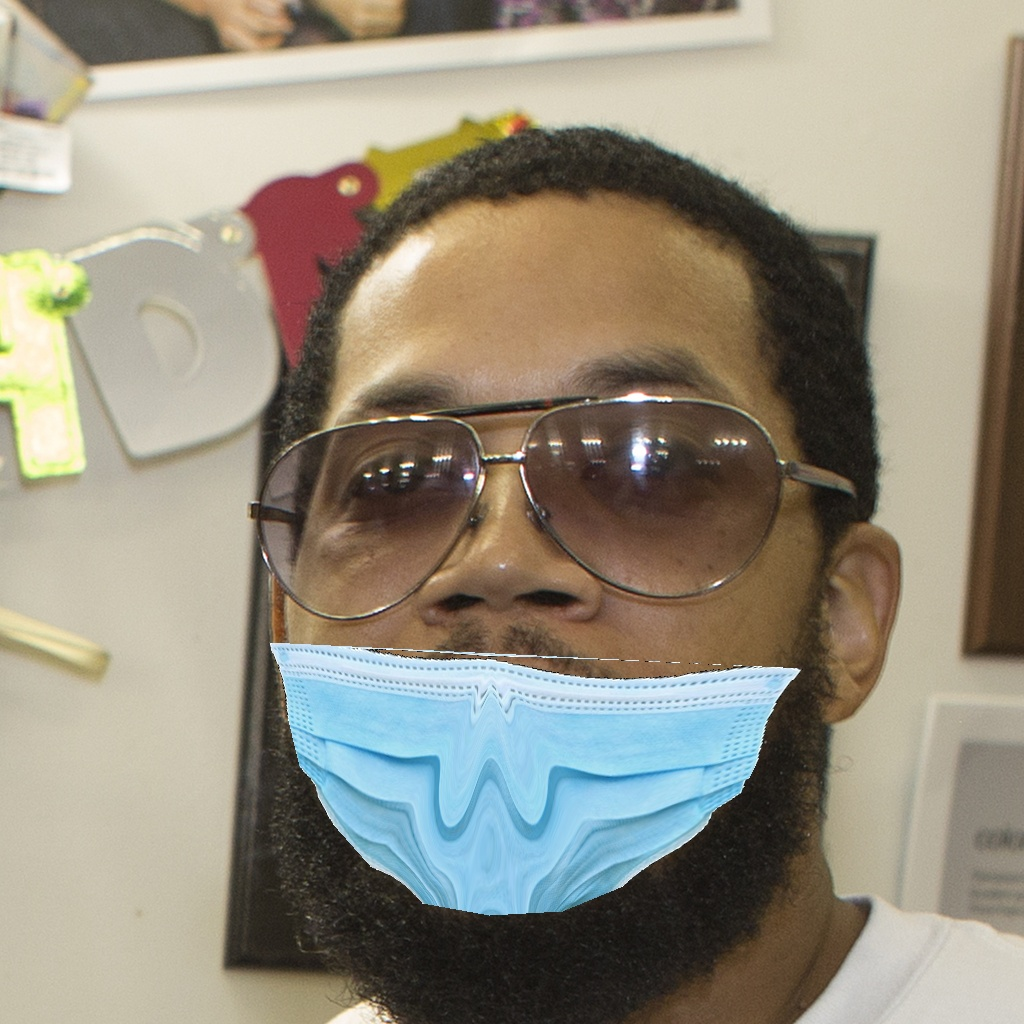mascarilla_mal_puesta: (249, 340, 834, 993)
